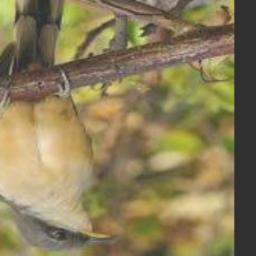Cuckoo: (0, 0, 118, 250)
